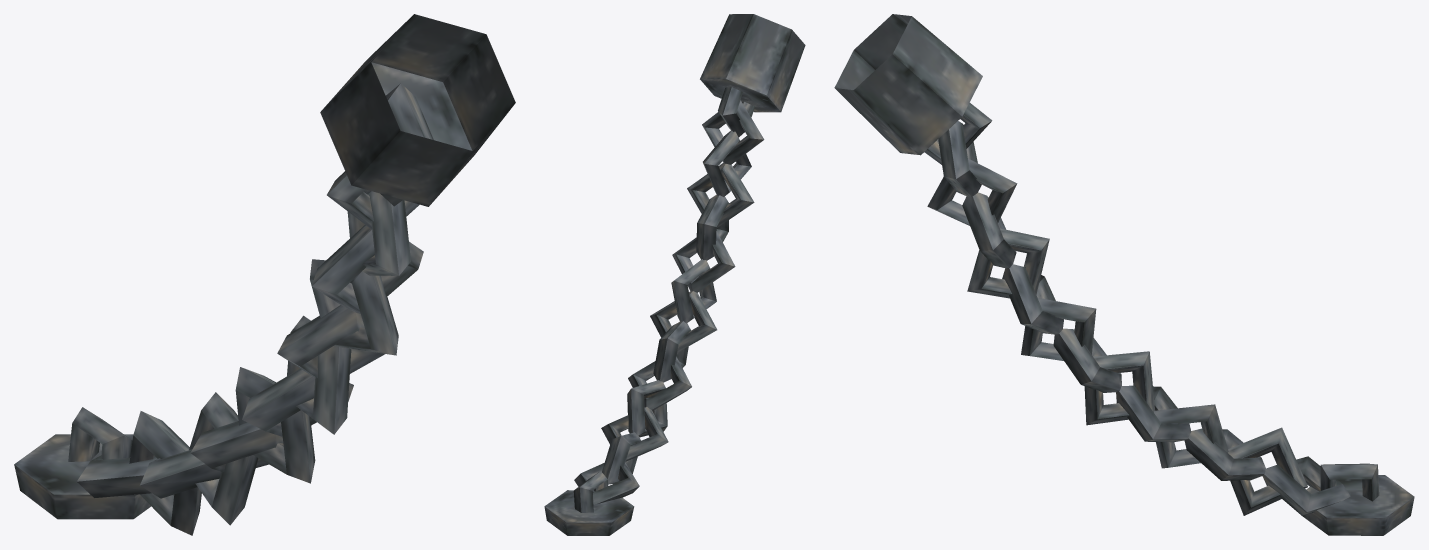
The model's file is chain_002.obj.
3 views of the same model, side by side, from view 1: azimuth 30°, elevation 25°; view 2: azimuth 150°, elevation 25°; view 3: azimuth 270°, elevation 25° (orthographic). The views are drawn at different scales.
Parts seen in each view (by area): view 1: chain_002; view 2: chain_002; view 3: chain_002.
Part boxes in pixels (x1,y1,x2,y2): chain_002: (14, 14, 515, 535); chain_002: (544, 14, 805, 535); chain_002: (834, 14, 1414, 535).
Size of the model in its own units: 1.3 by 6.39 by 6.68.
